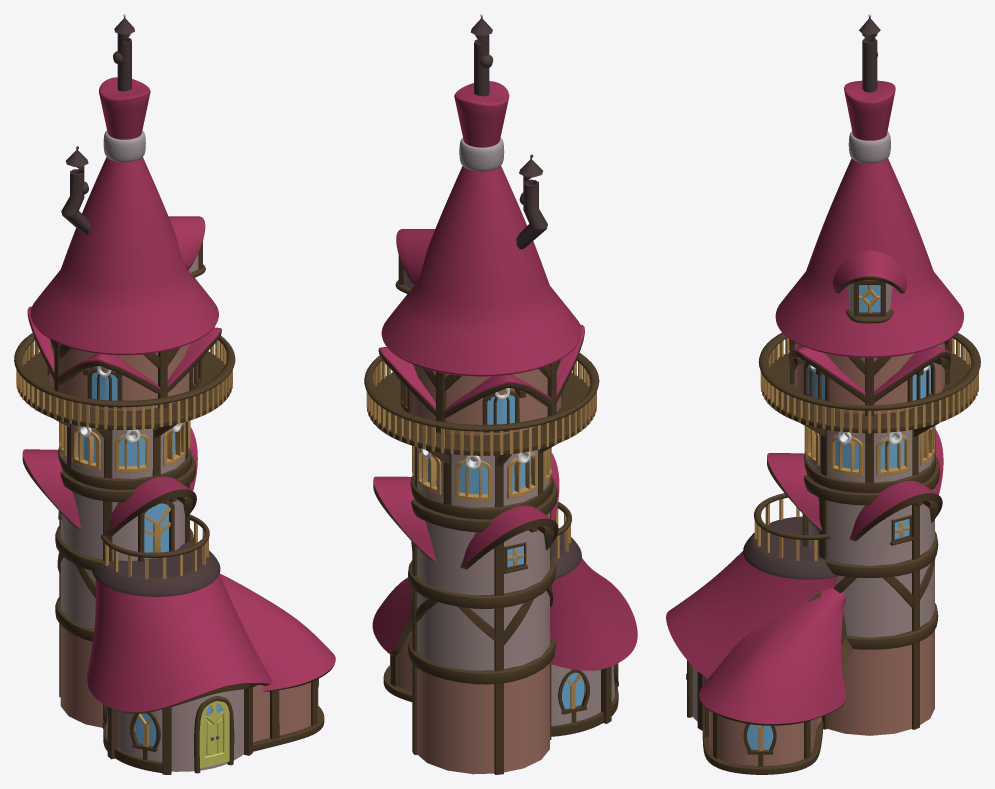
File: tower_H.fbx
3 renders of one model, left to right at view 1: azimuth 30°, elevation 25°; view 2: azimuth 150°, elevation 25°; view 3: azimuth 270°, elevation 25°, orthographic. The views are drawn at different scales.
Parts seen in each view (by area): view 1: Circle.018, Circle.026, Circle.011, Circle.027, Circle.020, Circle.022, Circle.015, Cube.133, Circle.021, Cube.145, Circle.019, Circle.016 (+20 smaller); view 2: Circle.018, Circle.011, Circle.026, Circle.020, Circle.015, Cube.133, Circle.021, Cube.136, Cube.145, Circle.016, Cube.129, Circle.025 (+17 smaller); view 3: Circle.018, Circle.011, Circle.027, Circle.026, Circle.020, Circle.015, Cube.133, Circle.019, Circle.021, Cube.145, Circle.016, Cube.131 (+16 smaller).
Boxes of the visible parts, box(x1,y1,x2,y2) form: Circle.018: box(30, 77, 218, 355); Circle.026: box(87, 540, 272, 713); Circle.011: box(60, 363, 197, 727); Circle.027: box(219, 573, 335, 691); Circle.020: box(22, 427, 197, 536); Circle.022: box(106, 689, 243, 771); Circle.015: box(17, 351, 232, 429); Cube.133: box(16, 340, 232, 429); Circle.021: box(50, 339, 197, 410); Cube.145: box(27, 306, 221, 394); Circle.019: box(253, 679, 318, 742); Circle.016: box(14, 333, 235, 407); Circle.018: box(381, 81, 581, 376); Circle.011: box(414, 395, 549, 774); Circle.026: box(411, 528, 637, 670); Circle.020: box(373, 453, 559, 569); Circle.015: box(367, 372, 595, 455); Cube.133: box(366, 360, 596, 455); Circle.021: box(404, 359, 561, 435); Cube.136: box(412, 511, 551, 774); Cube.145: box(378, 324, 584, 418); Circle.016: box(364, 353, 599, 431); Cube.129: box(417, 447, 492, 500); Circle.025: box(408, 636, 555, 684); Circle.018: box(775, 80, 963, 358); Circle.011: box(805, 365, 934, 735); Circle.027: box(699, 589, 845, 725); Circle.026: box(666, 516, 852, 677); Circle.020: box(767, 429, 943, 541); Circle.015: box(761, 352, 977, 433); Cube.133: box(760, 337, 978, 433); Circle.019: box(706, 677, 821, 765); Circle.021: box(794, 342, 944, 414); Cube.145: box(788, 338, 950, 402); Circle.016: box(758, 332, 980, 410); Cube.131: box(829, 435, 909, 475).
Size of the model in its own units: 3755 by 10138 by 4168.
